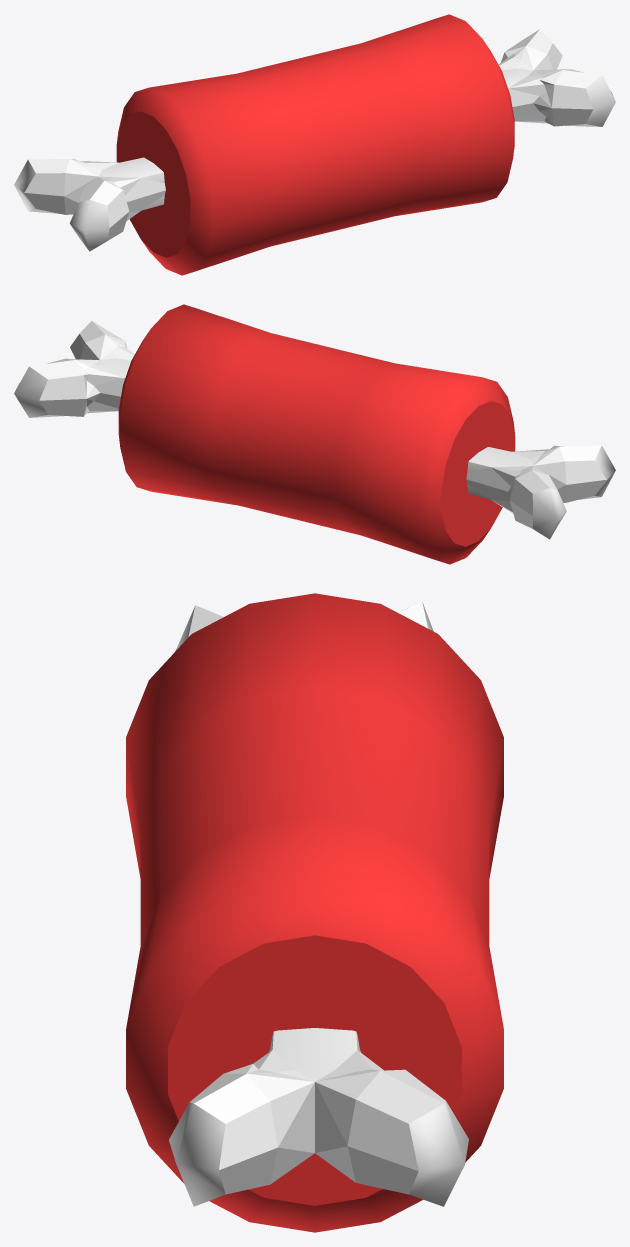
The model's file is Meat.FBX.
3 views of the same model, one above another, from view 1: azimuth 30°, elevation 25°; view 2: azimuth 150°, elevation 25°; view 3: azimuth 270°, elevation 25° (orthographic). The views are drawn at different scales.
Parts seen in each view (by area): view 1: Cylinder001, Box001; view 2: Cylinder001, Box001; view 3: Cylinder001, Box001.
Part boxes in pixels (x1,y1,x2,y2): Cylinder001: (116, 14, 514, 275); Box001: (14, 29, 615, 251); Cylinder001: (118, 304, 515, 564); Box001: (14, 320, 615, 539); Cylinder001: (126, 593, 503, 1232); Box001: (169, 601, 468, 1206).
Bounding box in the file's own units: 93.92 × 28.77 × 28.33.
